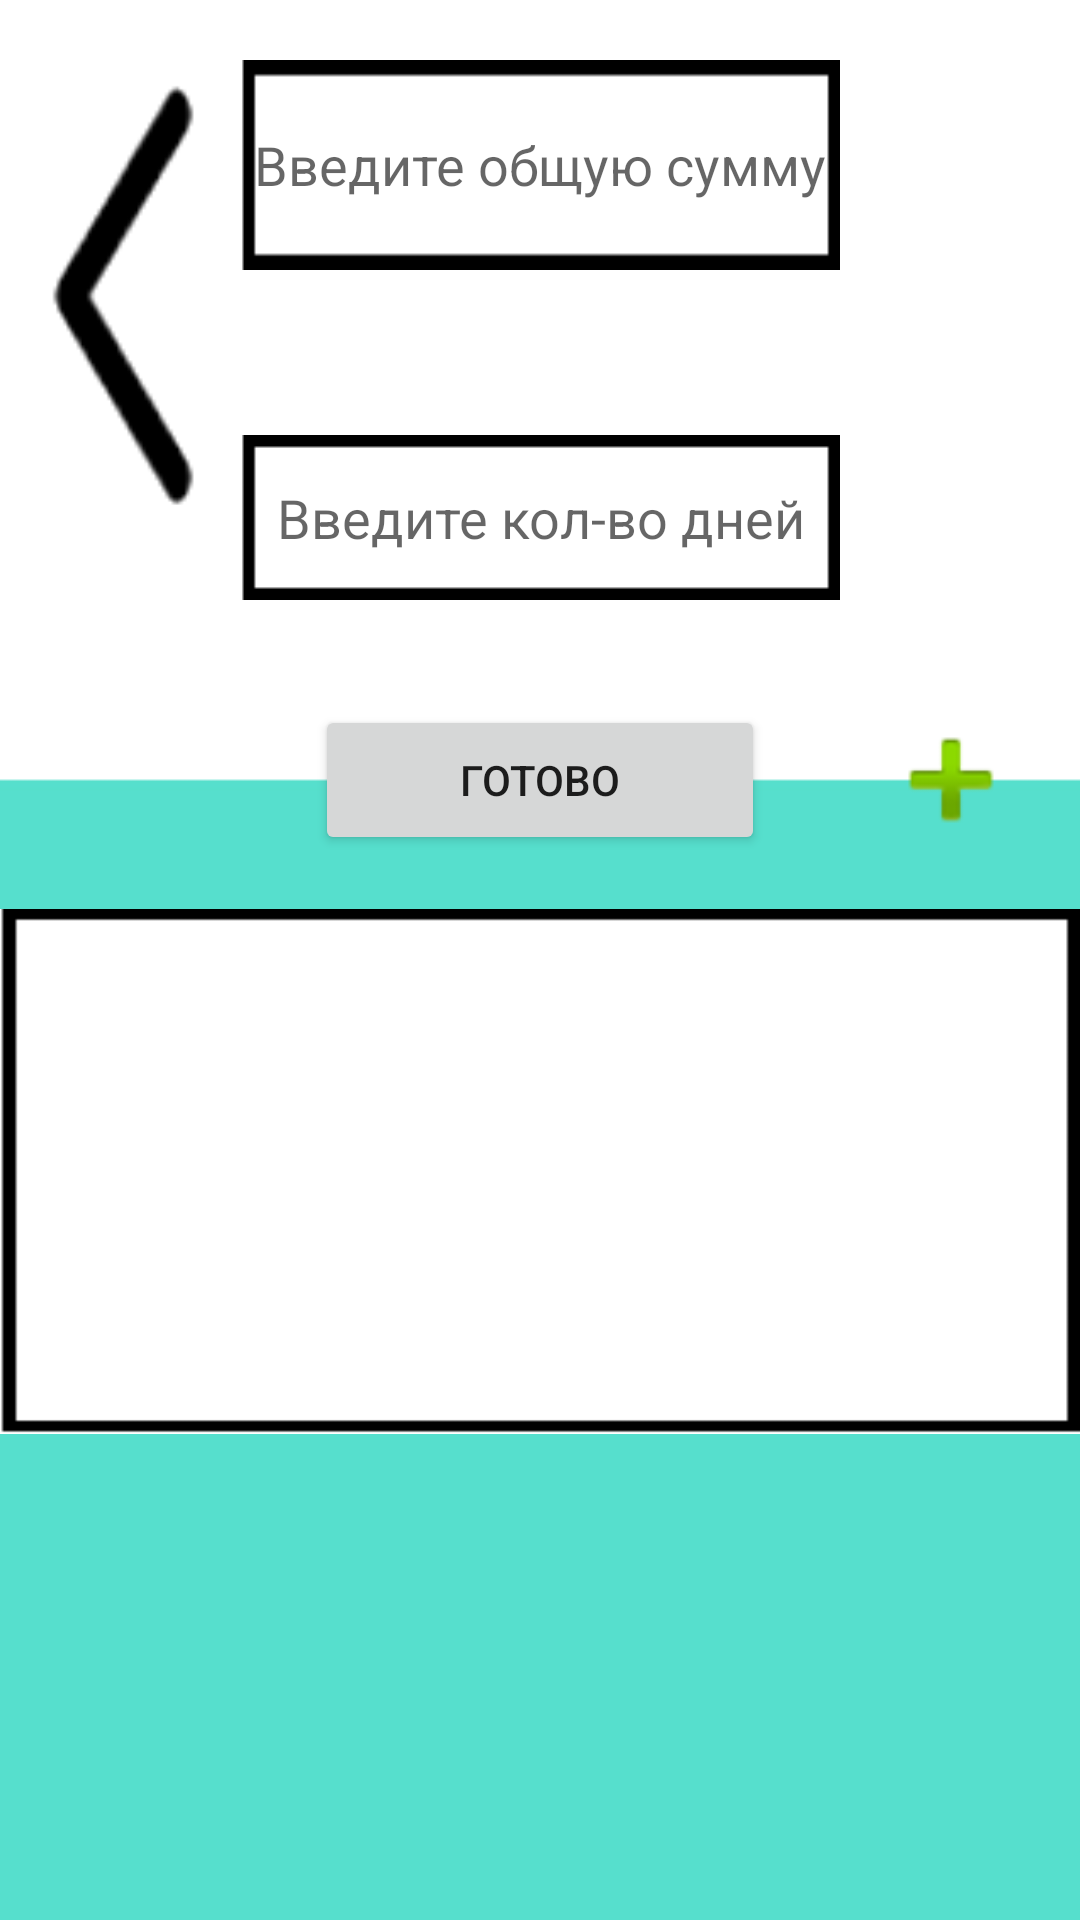

Point at icon controls on the screen. Image size 1080px x 1920px, points as [x,y].
add: [951,780]
